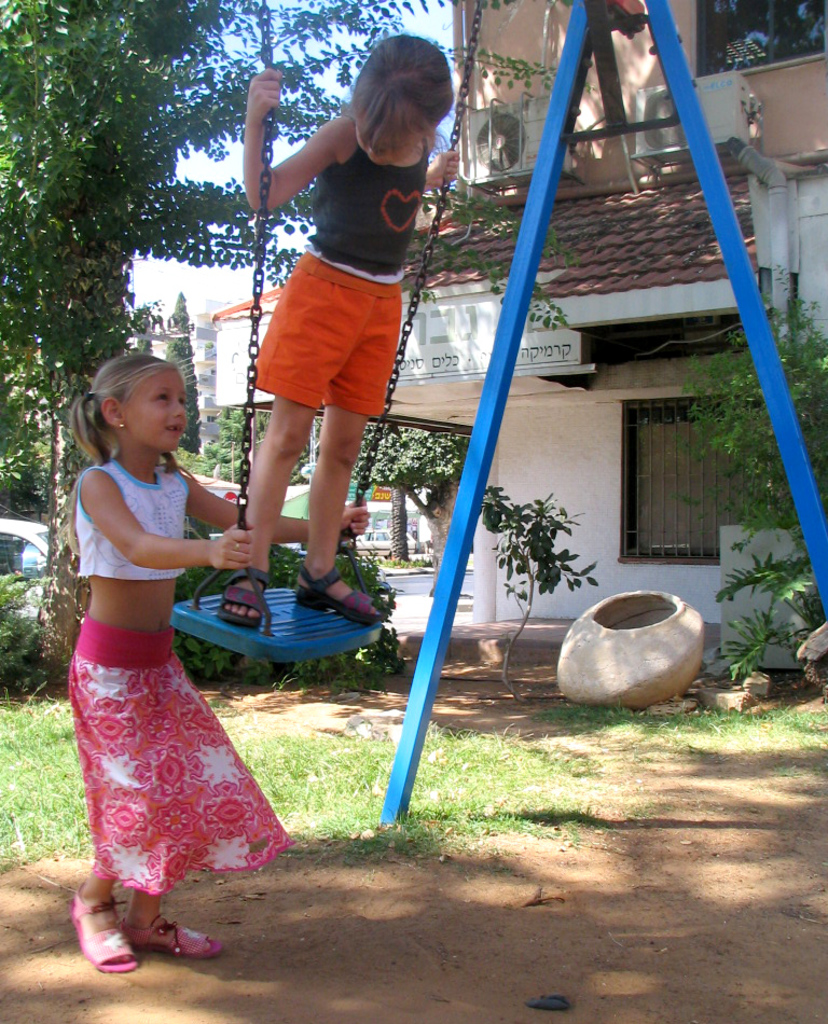Person: (67, 352, 368, 975), (217, 34, 460, 626)
